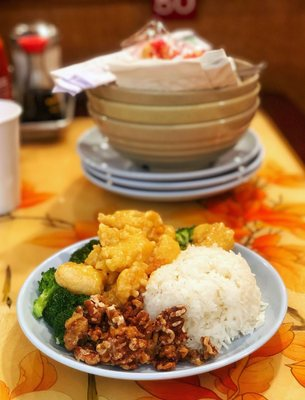curry: (32, 267, 90, 345)
sushi: (11, 215, 293, 382)
